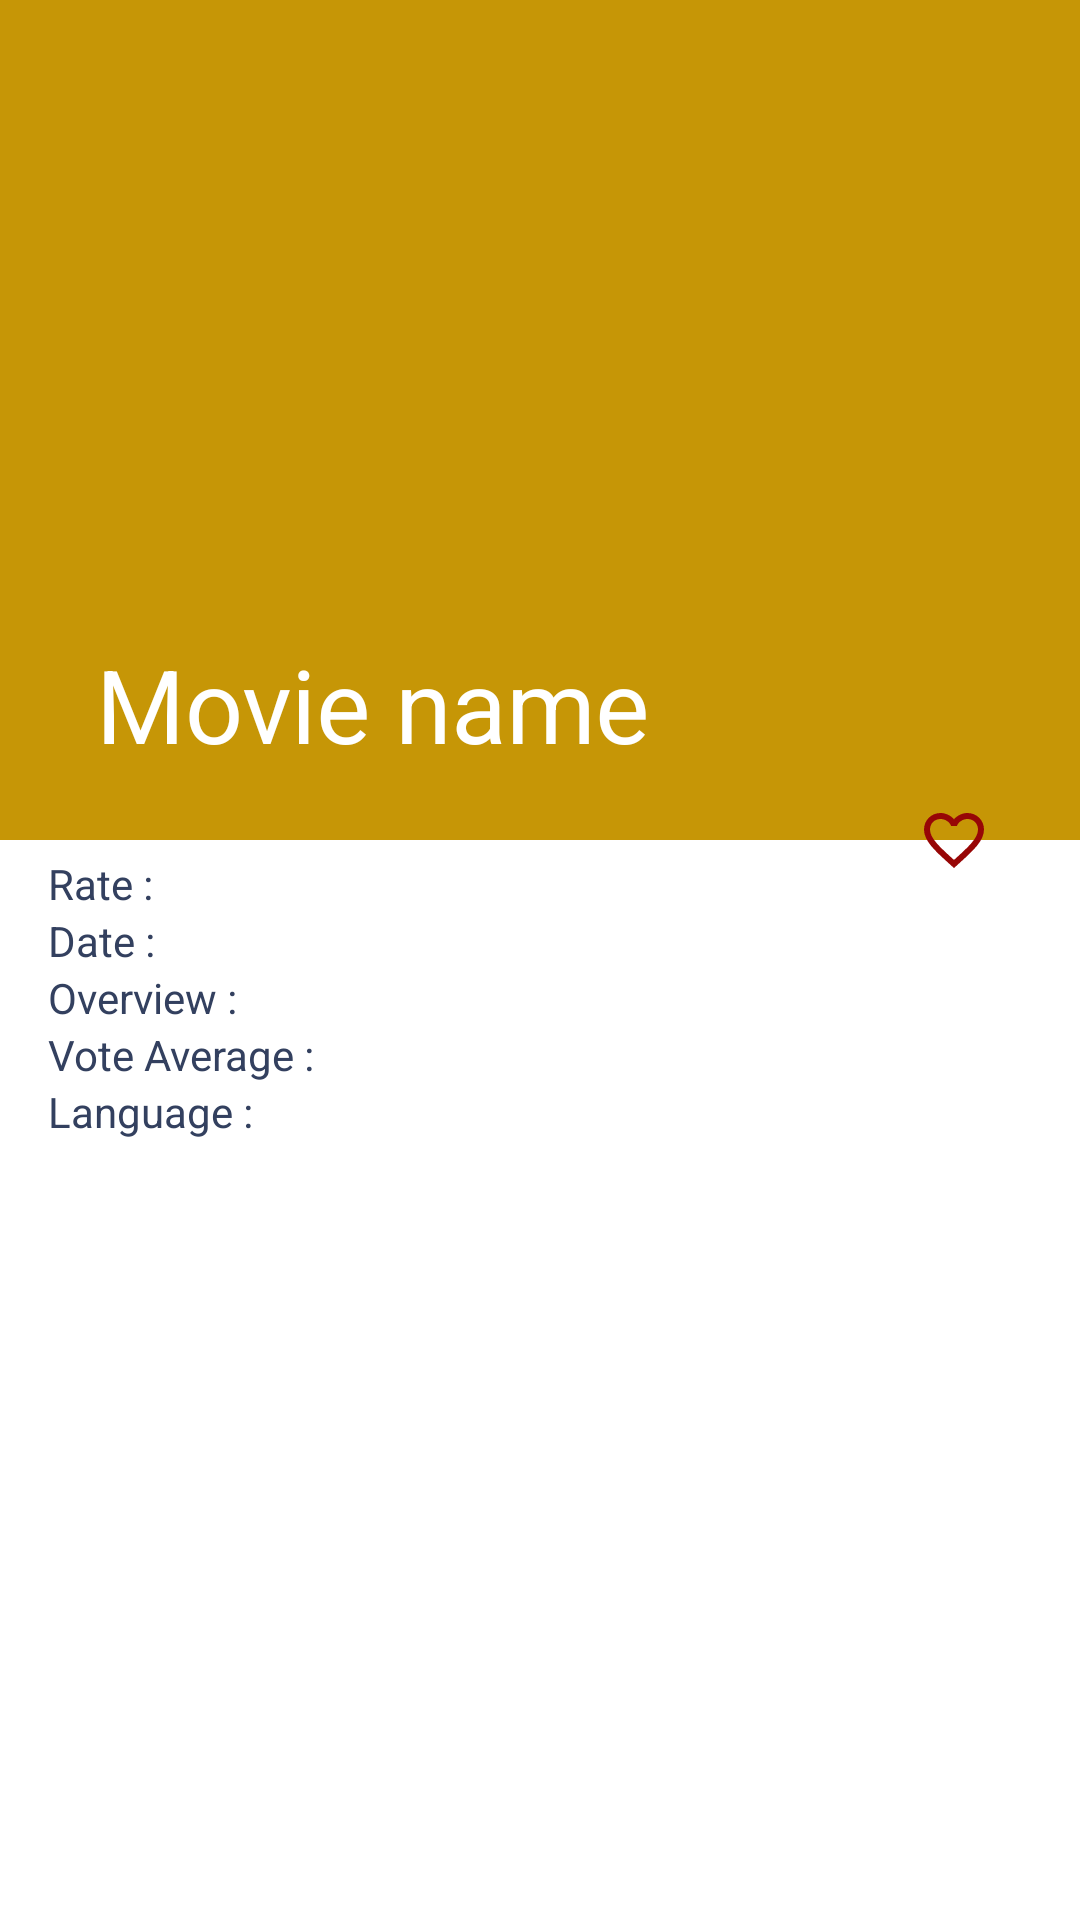

Icon click points for this 1080x1920 phone screenshot, format (x,y):
favorite border: (954,840)
